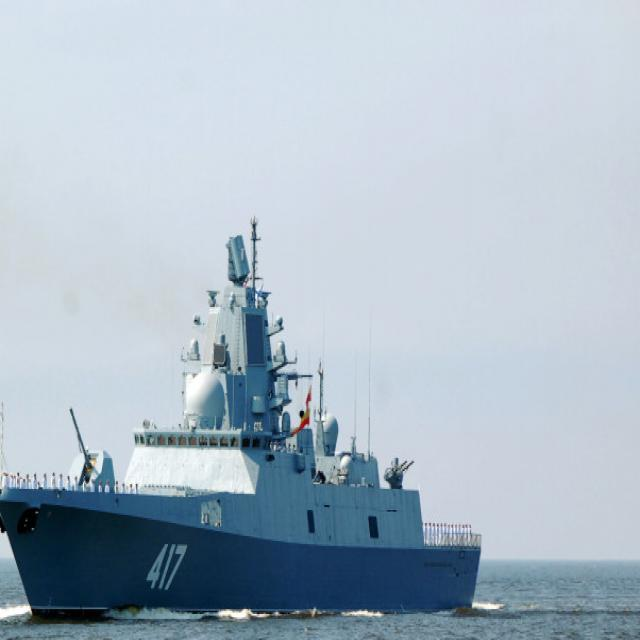Fragata: (1, 206, 488, 638)
